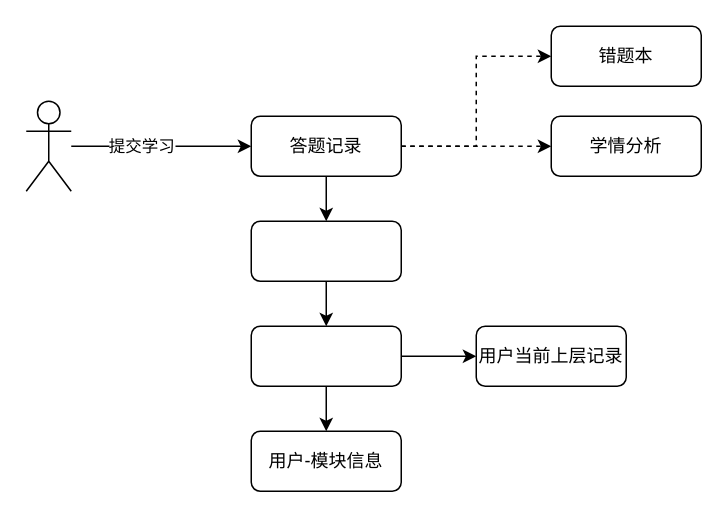
This 728x518 diagram has some shape labels left out. Each missing label, with the centre of its shape:
Actor: the point at 48,145
用户当前底层记录: the point at 325,355
练习记录: the point at 325,250
